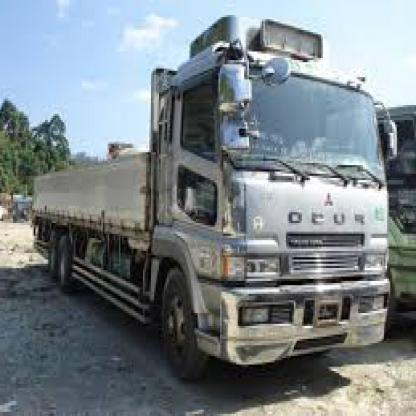truck: (149, 38, 392, 382)
